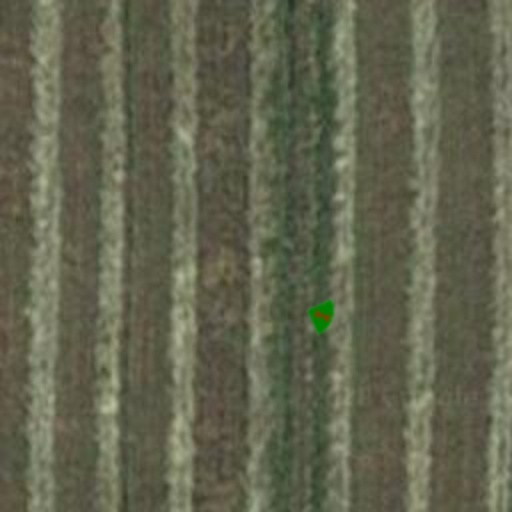quarter_circle: (298, 292, 346, 340)
